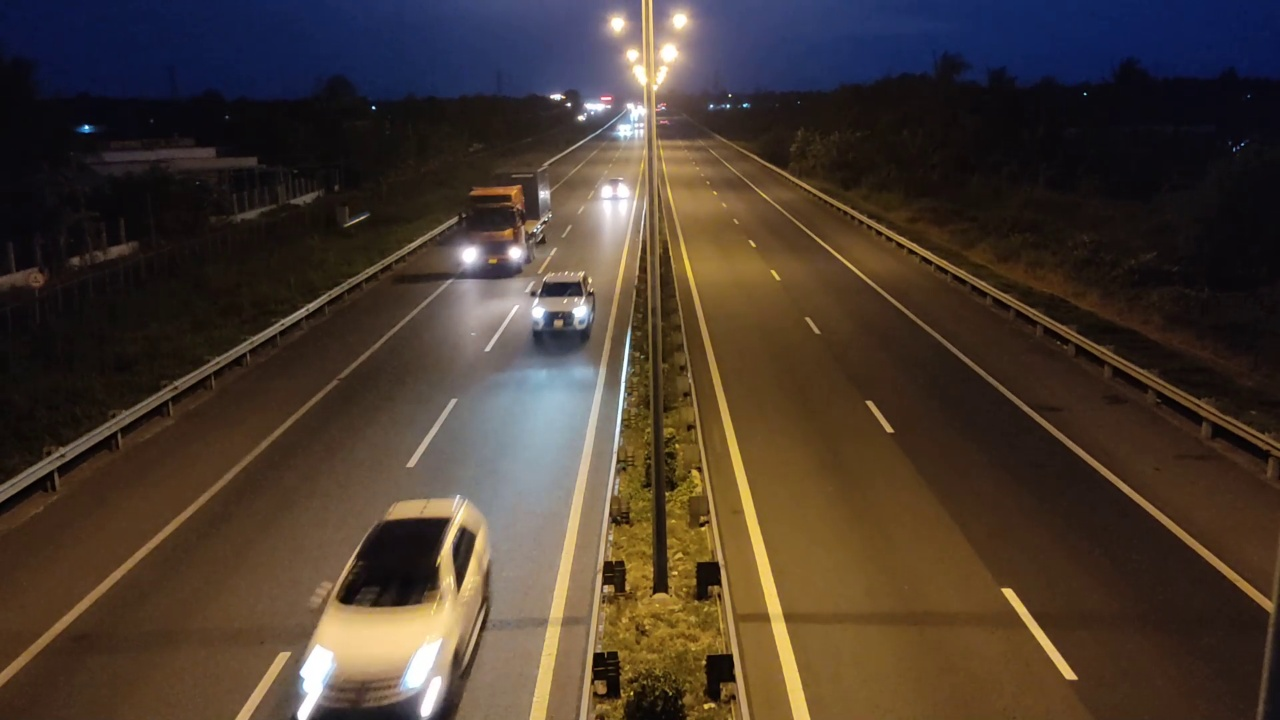car: (290, 495, 493, 717), (527, 269, 597, 349)
truck: (458, 158, 550, 280)
